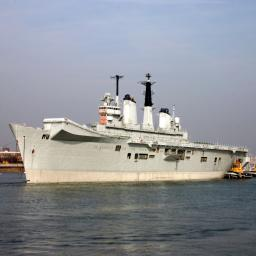Portanaves: (8, 70, 256, 187)
